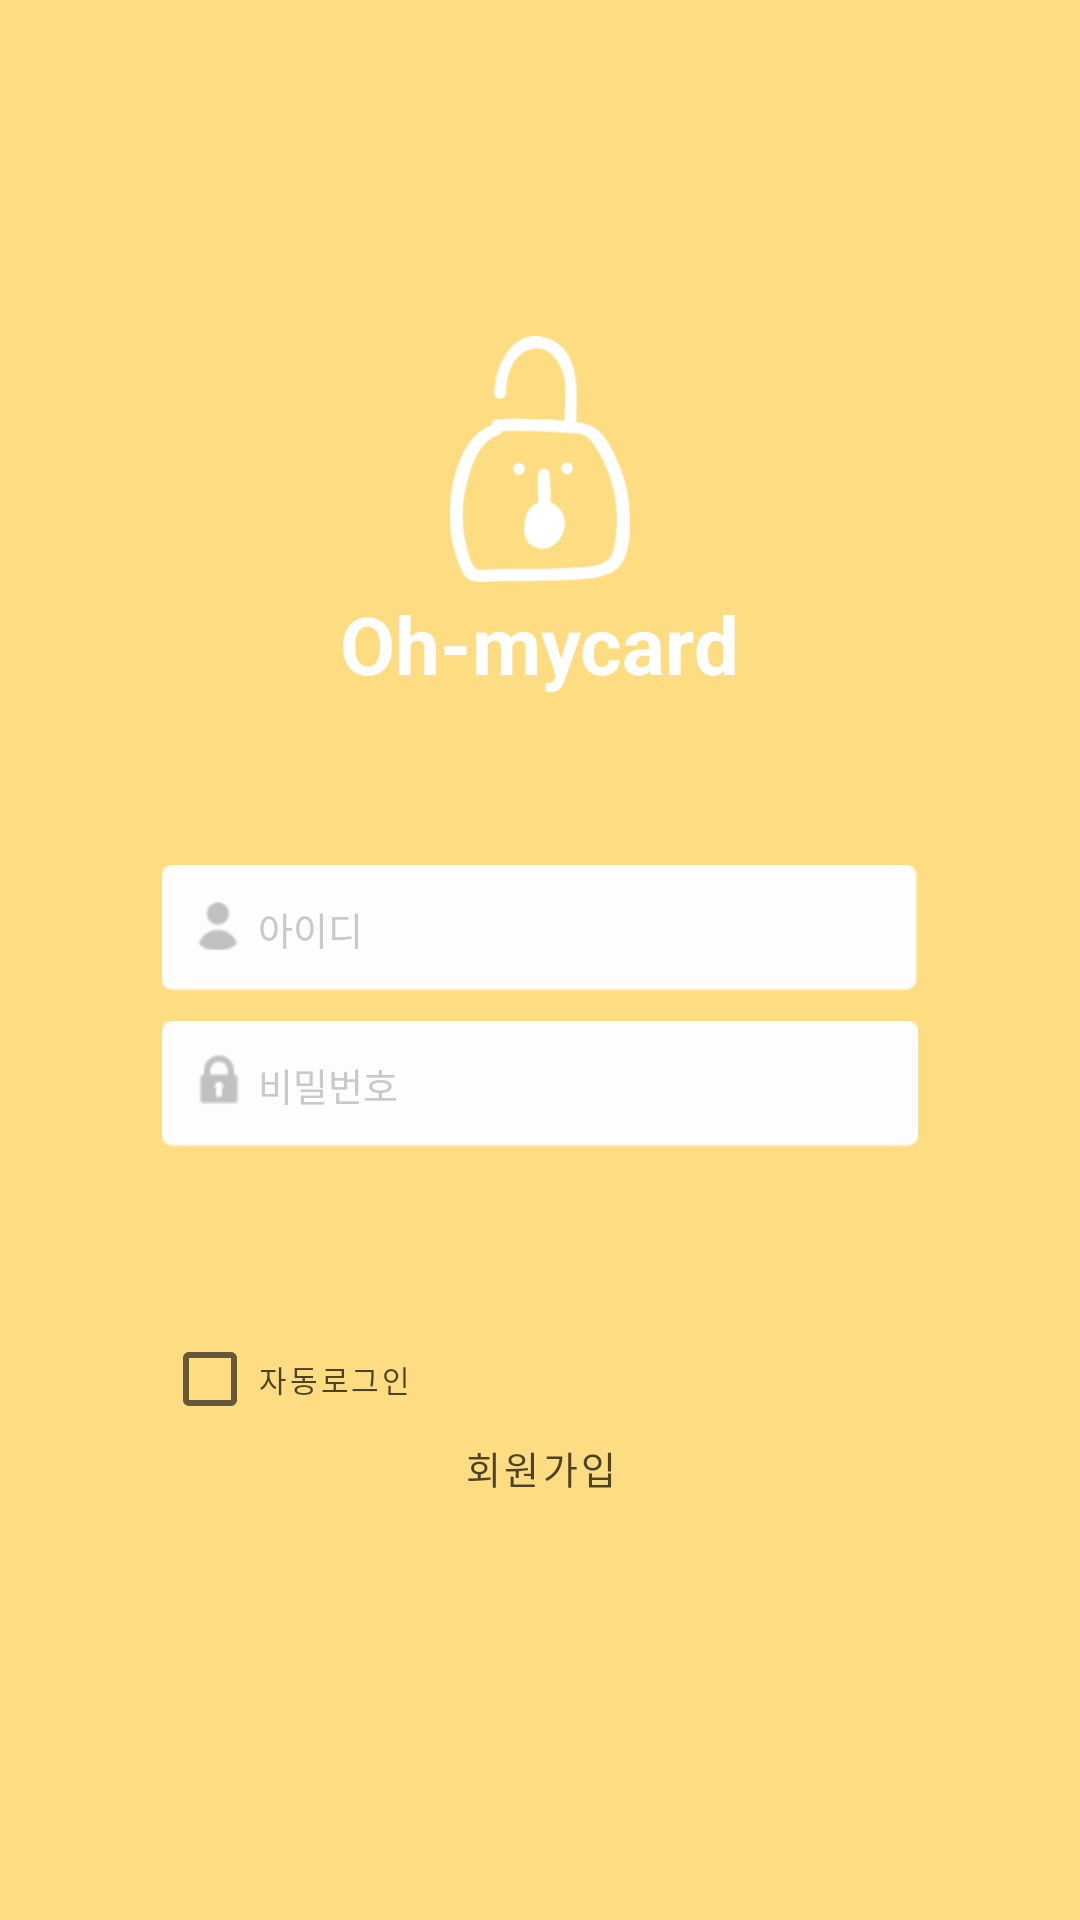

Where icons sit on this 1080px x 1920px app screen, as (x1, y1, x2, y2):
character ver: (450, 336, 630, 582)
